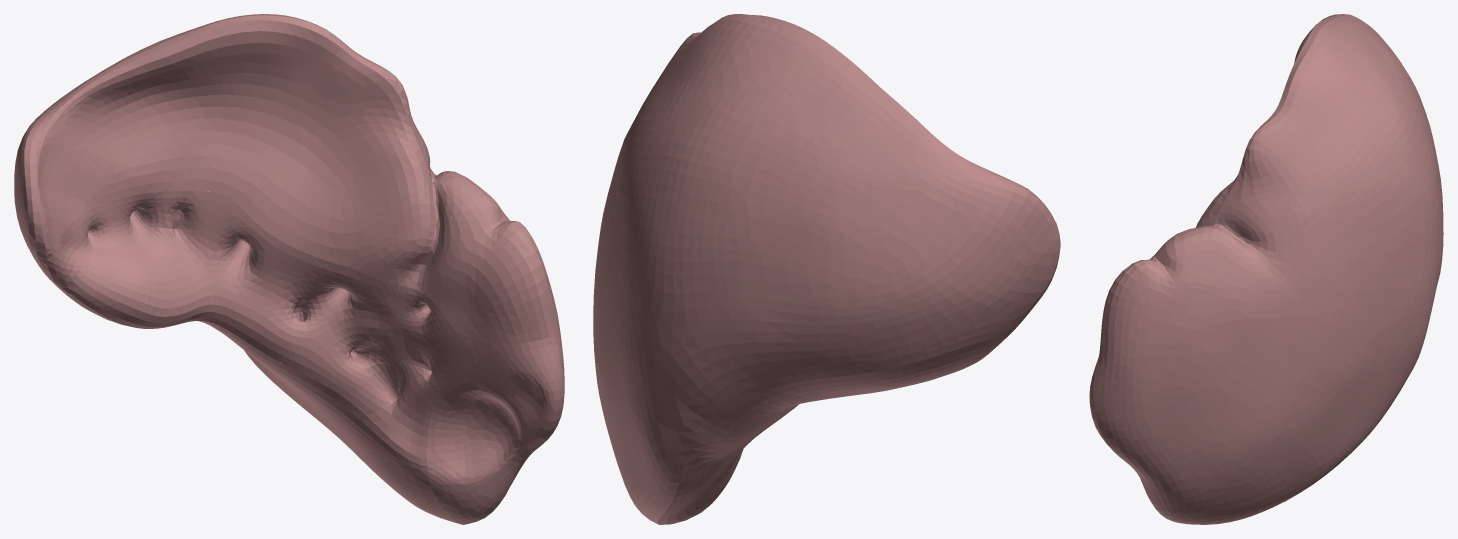
The model's file is VH_M_Spleen_0.6.glb.
3 views of the same model, side by side, from view 1: azimuth 30°, elevation 25°; view 2: azimuth 150°, elevation 25°; view 3: azimuth 270°, elevation 25° (orthographic). The views are drawn at different scales.
Parts seen in each view (by area): view 1: VH_M_gastric_surface_of_spleen, VH_M_hilum_of_spleen, VH_M_colic_surface_of_spleen, VH_M_diaphragmatic_surface_of_spleen, VH_M_renal_surface_of_spleen; view 2: VH_M_diaphragmatic_surface_of_spleen, VH_M_renal_surface_of_spleen; view 3: VH_M_diaphragmatic_surface_of_spleen, VH_M_gastric_surface_of_spleen.
Boxes of the visible parts, left/top/right/bottom form: VH_M_gastric_surface_of_spleen: left=35, top=20, right=549, bottom=359; VH_M_hilum_of_spleen: left=45, top=190, right=477, bottom=458; VH_M_colic_surface_of_spleen: left=427, top=337, right=564, bottom=524; VH_M_diaphragmatic_surface_of_spleen: left=14, top=14, right=564, bottom=503; VH_M_renal_surface_of_spleen: left=51, top=281, right=459, bottom=523; VH_M_diaphragmatic_surface_of_spleen: left=593, top=14, right=1060, bottom=524; VH_M_renal_surface_of_spleen: left=657, top=337, right=1006, bottom=524; VH_M_diaphragmatic_surface_of_spleen: left=1093, top=14, right=1443, bottom=524; VH_M_gastric_surface_of_spleen: left=1149, top=27, right=1314, bottom=259.
Size of the model in its own units: 0.1104 by 0.1186 by 0.0886.
